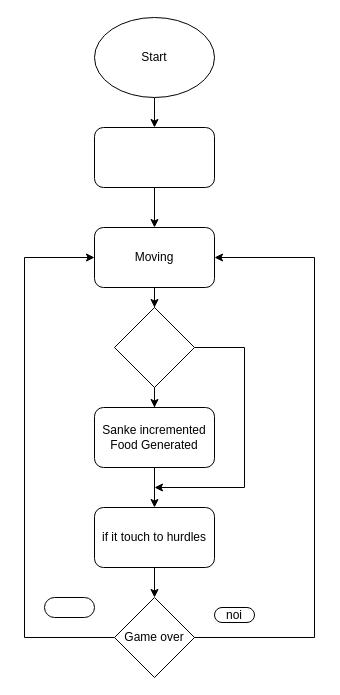
Image size: 340x695. Some labels were removed from this diagram. Each missing label, with the box of its shape:
Iwelcome to the game . press any key: (94, 126, 214, 188)
Meet Food: (114, 306, 194, 388)
yes: (44, 596, 94, 618)
